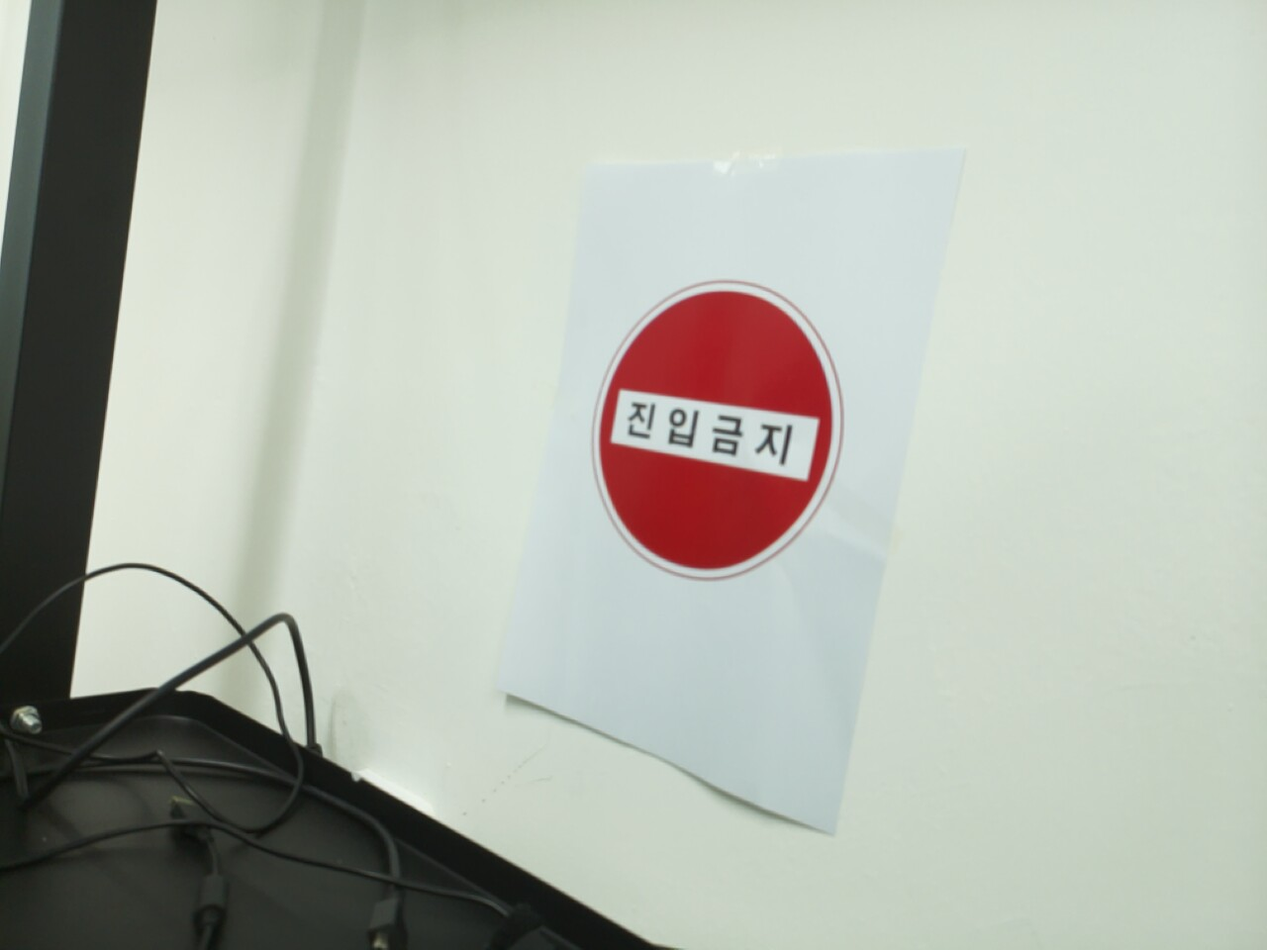do_not_enter: (591, 282, 840, 579)
